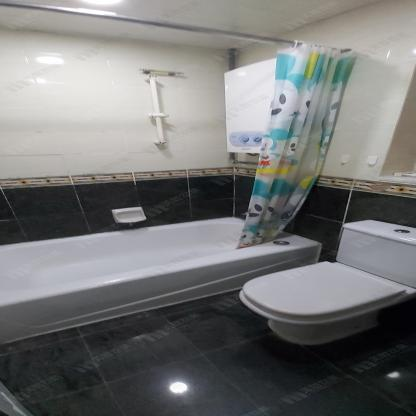Bathtub: (0, 216, 322, 345)
Toilet: (236, 218, 416, 350)
Water Heater: (219, 57, 279, 156)
